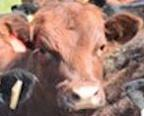muzzles: (57, 83, 106, 114)
